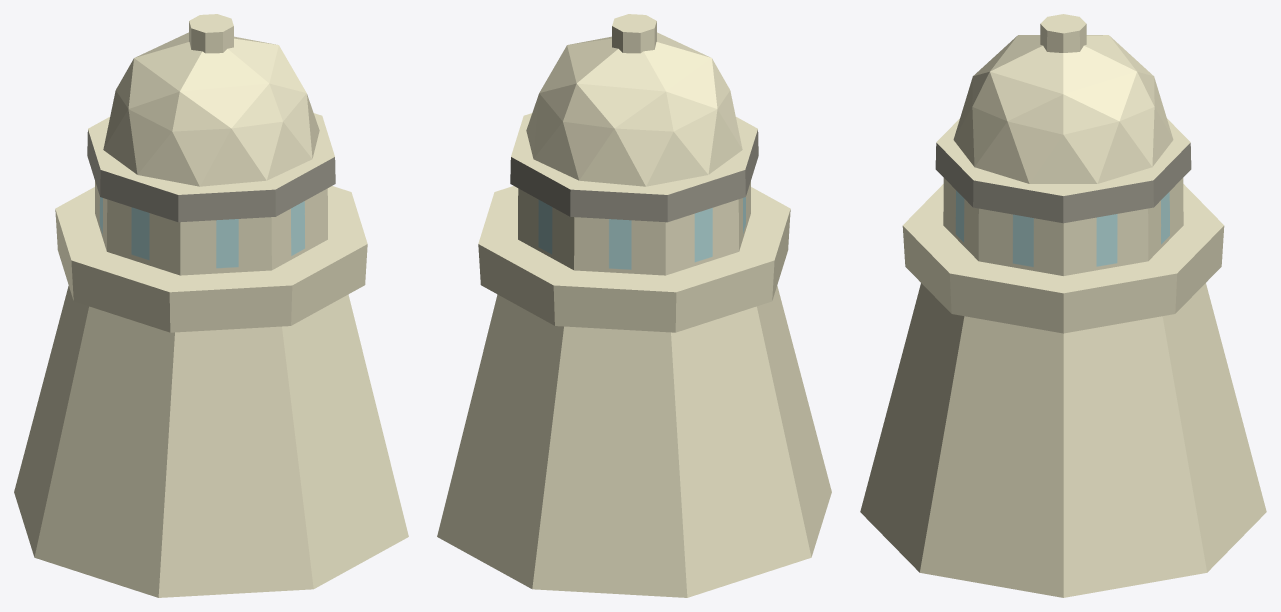
The model's file is lighthouse.obj.
3 renders of one model, left to right at view 1: azimuth 30°, elevation 25°; view 2: azimuth 150°, elevation 25°; view 3: azimuth 270°, elevation 25°, orthographic.
Parts seen in each view (by area): view 1: ICO球; view 2: ICO球; view 3: ICO球.
Part boxes in pixels (x1,y1,x2,y2): ICO球: (14, 14, 408, 597); ICO球: (437, 14, 831, 597); ICO球: (860, 14, 1266, 597).
Size of the model in its own units: 2 by 2.65 by 2.
Materials: 1 (1 with a texture image).
